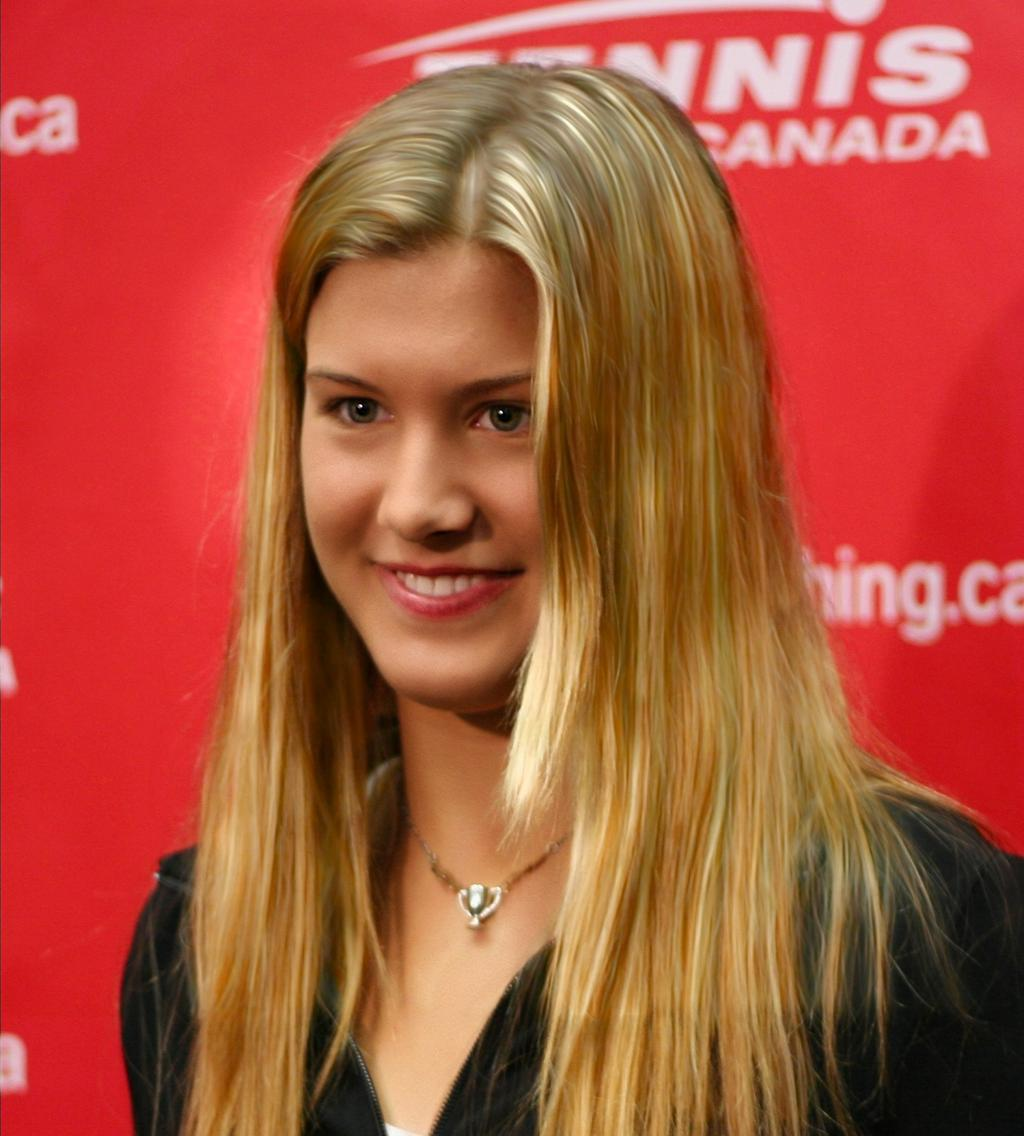face: (295, 242, 583, 703)
